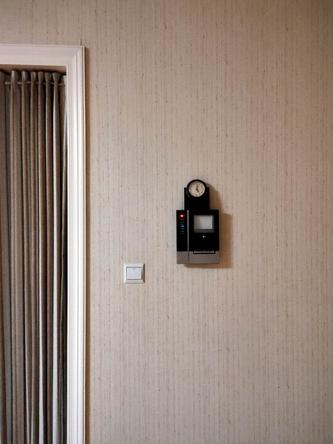switch: (125, 264, 145, 282)
